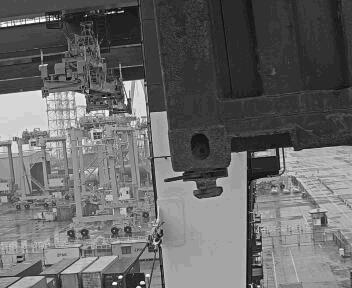twist_lock_1: (172, 165, 230, 203)
